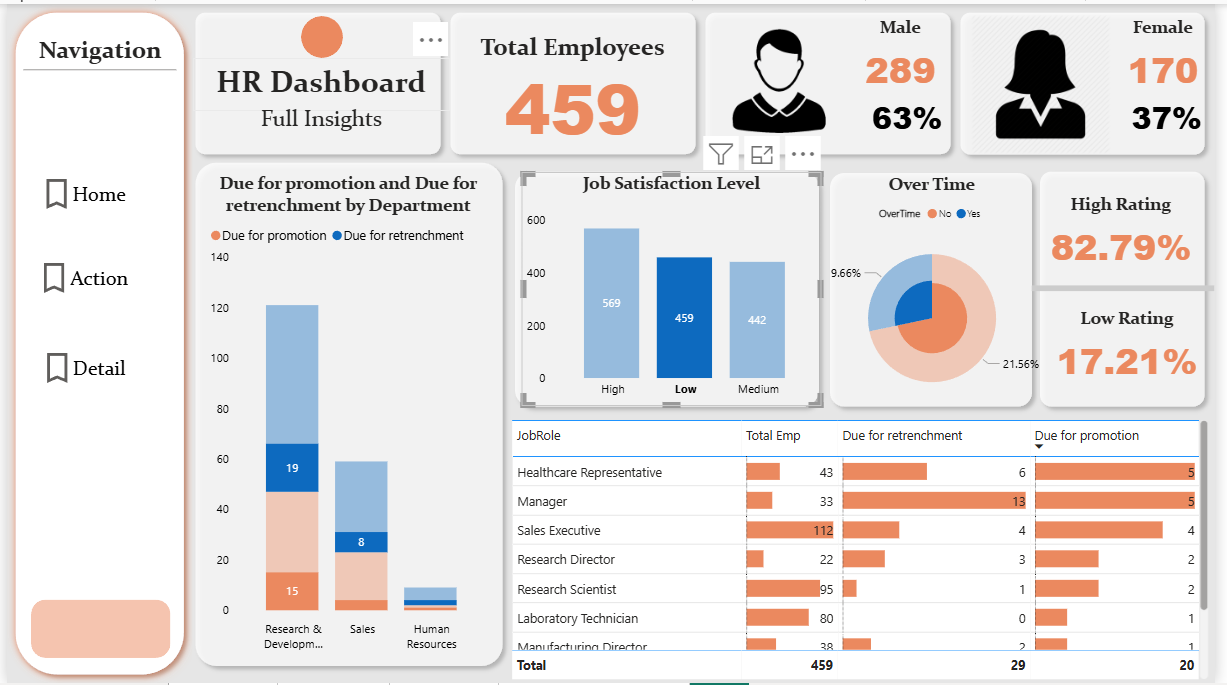

The dashboard page shown, as its layout file describes it:
{"tool":"powerbi","page":{"name":"Detail","canvas":[1280,720],"ordinal":2},"visuals":[{"type":"shape","box":[0,0,196.5,720],"z":0},{"type":"shape","box":[190.9,0,277.8,168.2],"z":1000},{"type":"shape","box":[461.1,0,277.8,168.2],"z":2000},{"type":"shape","box":[731.3,0,277.8,168.2],"z":3000},{"type":"shape","box":[1002.1,0,276.8,168.6],"z":4000},{"type":"textbox","box":[197.2,57.3,272,55.7],"z":5000},{"type":"textbox","box":[197.2,101.8,272,55.7],"z":6000},{"type":"shape","box":[311.8,12.7,44.5,44.5],"z":7000},{"type":"card","title":"Total Employees","fields":{"Values":["New Measures.Total Emp"]},"box":[493.1,30.2,213.1,120.9],"z":8000},{"type":"card","title":"Male","fields":{"Values":["New Measures.Male"]},"box":[892.3,12.7,109.8,89.1],"z":9000},{"type":"card","title":"Male","fields":{"Values":["New Measures.% Male"]},"box":[903.5,89.1,101.8,62],"z":10000},{"type":"card","title":"Female","fields":{"Values":["New Measures.Female"]},"box":[1170.7,12.7,109.8,89.1],"z":11000},{"type":"card","title":"Male","fields":{"Values":["New Measures.% Female"]},"box":[1178.6,89.1,101.8,62],"z":12000},{"type":"image","box":[1002.1,11.1,187.7,147.9],"z":13000},{"type":"image","box":[746,25.4,146.3,111.3],"z":14000},{"type":"shape","box":[190.9,159.1,343.6,551.9],"z":15000},{"type":"shape","box":[529.7,168.6,340.4,267.2],"z":16000},{"type":"shape","box":[863.7,170.2,232.2,265.6],"z":17000},{"type":"shape","box":[1086.4,168.6,192.5,267.2],"z":18000},{"type":"shape","box":[1086.4,265.6,194.1,71.6],"z":19000},{"type":"columnChart","fields":{"Category":["HR Analytics Data.Department"],"Y":["New Measures.Due for promotion","New Measures.Will be retrenched"]},"box":[210,178.1,303.8,515.4],"z":20000},{"type":"clusteredColumnChart","title":"Job Satisfaction Level","fields":{"Category":["HR Analytics Data.Job Satisfaction Level"],"Y":["New Measures.Total Emp"]},"box":[545.6,178.1,318.1,248.1],"z":21000},{"type":"pieChart","title":"Over Time","fields":{"Category":["HR Analytics Data.OverTime"],"Y":["New Measures.Total Emp"]},"box":[858.9,179.7,243.4,256.1],"z":22000},{"type":"tableEx","title":"Job Satisfaction Level","fields":{"Values":["HR Analytics Data.JobRole","New Measures.Total Emp","New Measures.Will be retrenched","New Measures.Due for promotion"]},"box":[529.7,435.8,749.2,284.7],"z":23000},{"type":"card","title":"High Rating","fields":{"Values":["New Measures.% High Rated"]},"box":[1089.6,200.4,182.9,89.1],"z":24000},{"type":"card","title":"Low Rating","fields":{"Values":["New Measures.% Low Rated"]},"box":[1095.9,321.3,182.9,89.1],"z":25000},{"type":"actionButton","title":"Home","box":[0,163.8,162.2,74.8],"z":25001},{"type":"actionButton","title":"Home","box":[0,252.9,162.2,74.8],"z":25002},{"type":"actionButton","title":"Home","box":[0,348.3,162.2,74.8],"z":25003},{"type":"actionButton","title":"Navigation","box":[17.5,33.4,162.2,79.5],"z":25004},{"type":"shape","box":[25.4,631.5,147.9,62],"z":25005}]}

Visuals, with their boxes in screenshot pixels (x1, y1, x2, y2), scaled from the page's 1280x720 canvas onto the 1227x685 screenshot:
shape: left=0, top=0, right=188, bottom=684
shape: left=183, top=0, right=449, bottom=160
shape: left=442, top=0, right=708, bottom=160
shape: left=701, top=0, right=967, bottom=160
shape: left=961, top=0, right=1226, bottom=160
textbox: left=189, top=55, right=450, bottom=108
textbox: left=189, top=97, right=450, bottom=150
shape: left=299, top=12, right=342, bottom=54
"Total Employees" card: left=473, top=29, right=677, bottom=144
"Male" card: left=855, top=12, right=961, bottom=97
"Male" card: left=866, top=85, right=964, bottom=144
"Female" card: left=1122, top=12, right=1226, bottom=97
"Male" card: left=1130, top=85, right=1226, bottom=144
image: left=961, top=11, right=1141, bottom=151
image: left=715, top=24, right=855, bottom=130
shape: left=183, top=151, right=512, bottom=676
shape: left=508, top=160, right=834, bottom=415
shape: left=828, top=162, right=1051, bottom=415
shape: left=1041, top=160, right=1226, bottom=415
shape: left=1041, top=253, right=1226, bottom=321
columnChart - HR Analytics Data.Department x New Measures.Due for promotion: left=201, top=169, right=493, bottom=660
"Job Satisfaction Level" clusteredColumnChart: left=523, top=169, right=828, bottom=405
"Over Time" pieChart: left=823, top=171, right=1057, bottom=415
"Job Satisfaction Level" tableEx: left=508, top=415, right=1226, bottom=684
"High Rating" card: left=1044, top=191, right=1220, bottom=275
"Low Rating" card: left=1051, top=306, right=1226, bottom=390
"Home" actionButton: left=0, top=156, right=155, bottom=227
"Home" actionButton: left=0, top=241, right=155, bottom=312
"Home" actionButton: left=0, top=331, right=155, bottom=403
"Navigation" actionButton: left=17, top=32, right=172, bottom=107
shape: left=24, top=601, right=166, bottom=660
